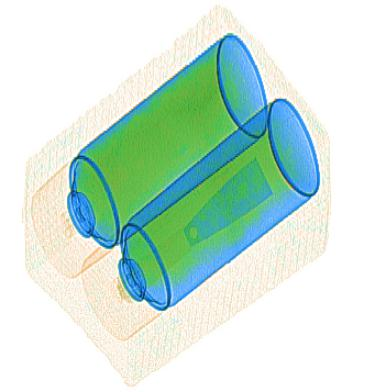pressure: (27, 31, 271, 279), (79, 98, 322, 341)
